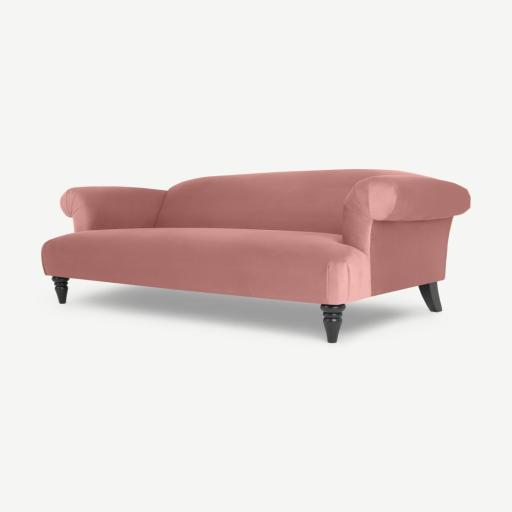back_cushion: (154, 169, 408, 234)
left_arm: (343, 210, 452, 294)
legs: (320, 304, 345, 343), (419, 282, 441, 312), (52, 276, 69, 303)
right_arm: (61, 187, 166, 232)
seat_cushion: (42, 228, 369, 303)
two-seater: (0, 0, 511, 512)
